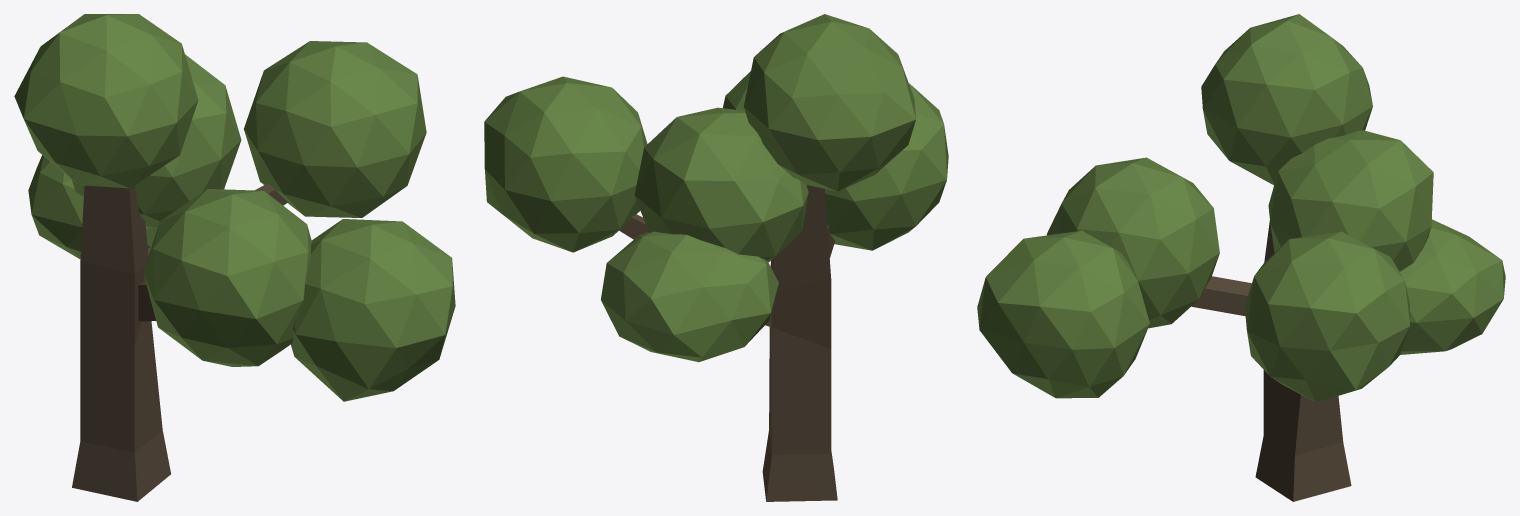
File: Tree2.glb
The picture shows the model from 3 angles, left to right: view 1: azimuth 30°, elevation 25°; view 2: azimuth 150°, elevation 25°; view 3: azimuth 270°, elevation 25°; orthographic projection. The views are drawn at different scales.
Visible parts, largest first — view 1: Cube.003; view 2: Cube.003; view 3: Cube.003.
Part boxes in pixels (x1,y1,x2,y2): Cube.003: (14, 14, 455, 501); Cube.003: (484, 14, 948, 501); Cube.003: (977, 14, 1505, 501).
Bounding box in the file's own units: 3 × 3.33 × 3.54.
